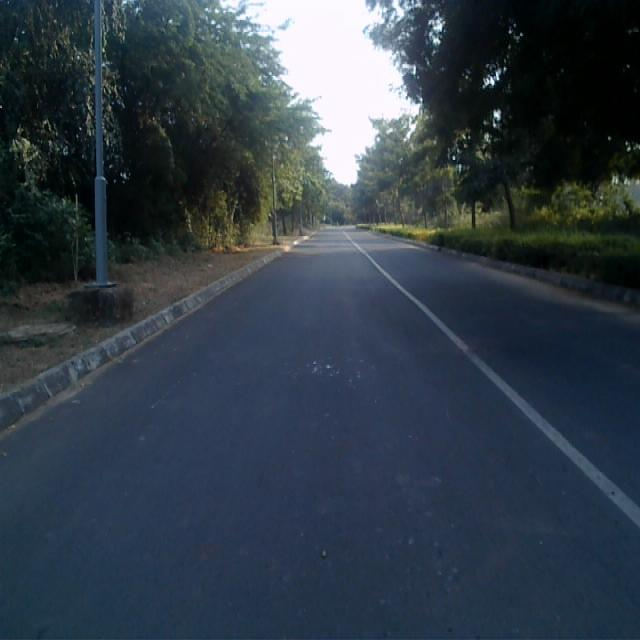lane: (0, 230, 640, 640)
